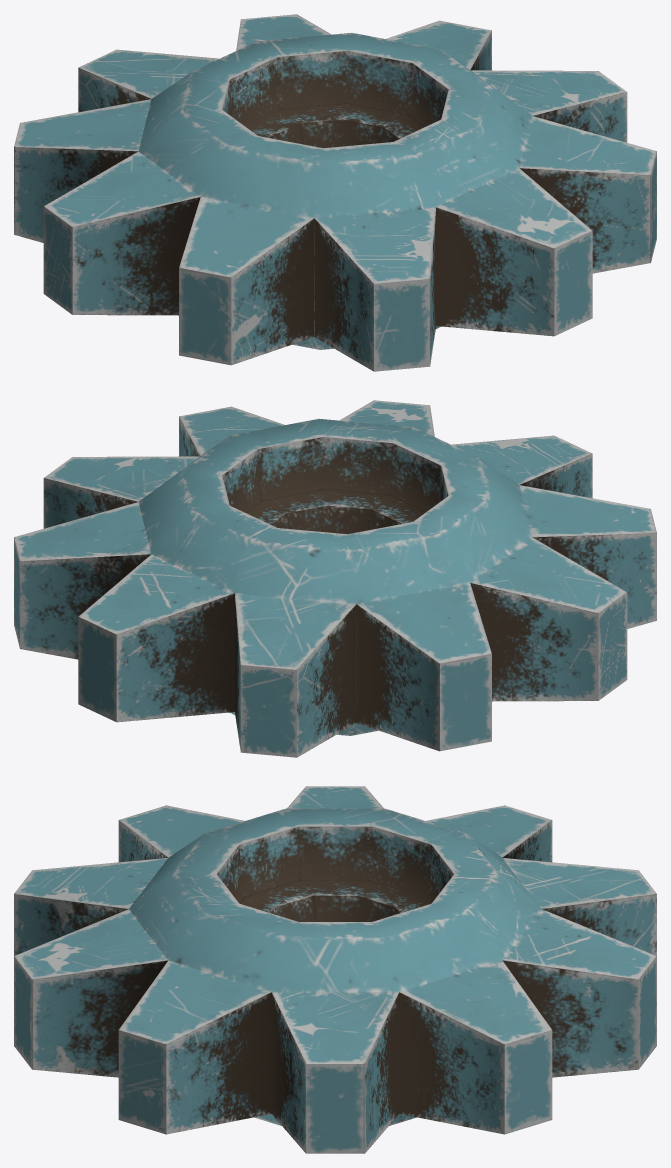
Rendered from gear_scrap.glb.
The picture shows the model from 3 angles, top to bottom: view 1: azimuth 30°, elevation 25°; view 2: azimuth 150°, elevation 25°; view 3: azimuth 270°, elevation 25°; orthographic projection. The views are drawn at different scales.
Parts seen in each view (by area): view 1: gear_export_temp; view 2: gear_export_temp; view 3: gear_export_temp.
Part boxes in pixels (left/top/right/bottom): gear_export_temp: left=14, top=14, right=656, bottom=371; gear_export_temp: left=14, top=400, right=656, bottom=757; gear_export_temp: left=14, top=786, right=656, bottom=1153.
Bounding box in the file's own units: 1.41 × 0.4602 × 1.38.
Materials: 1 (1 with a texture image).
